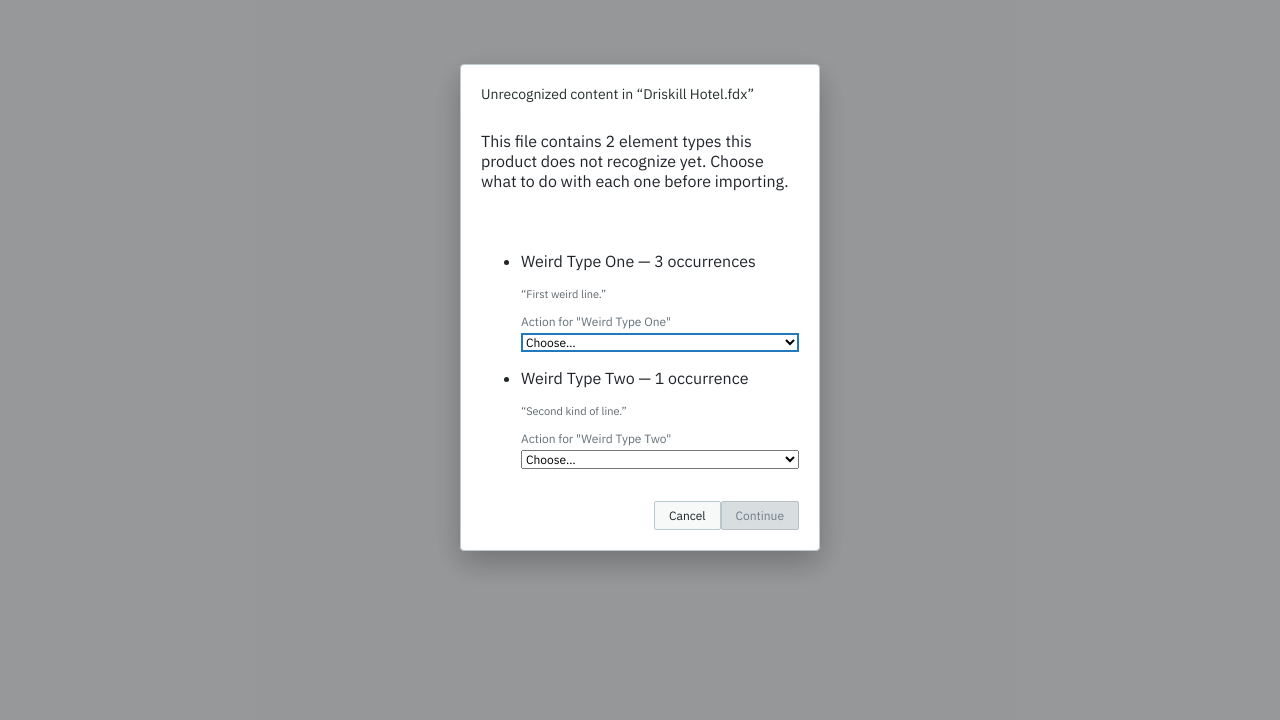
Test: FdxUnknownTypesDialog › reverting a decision back to "Choose…" disables Continue again
Select "Skip (leave out of the import)" in the dropdown labelled "Action for \"Weird Type One\"" at coordinates (660, 342), box [521,333,799,352]
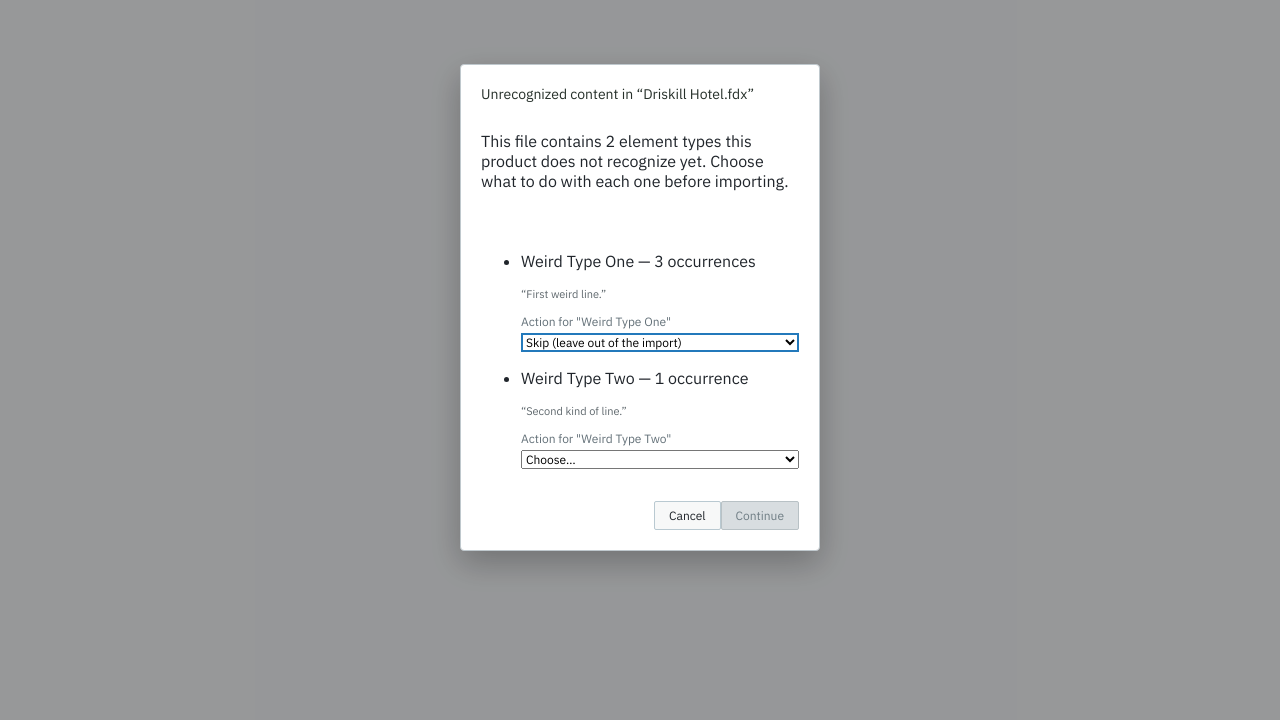
Select "Map to Dialogue" in the dropdown labelled "Action for \"Weird Type Two\"" at coordinates (660, 459), box [521,450,799,469]
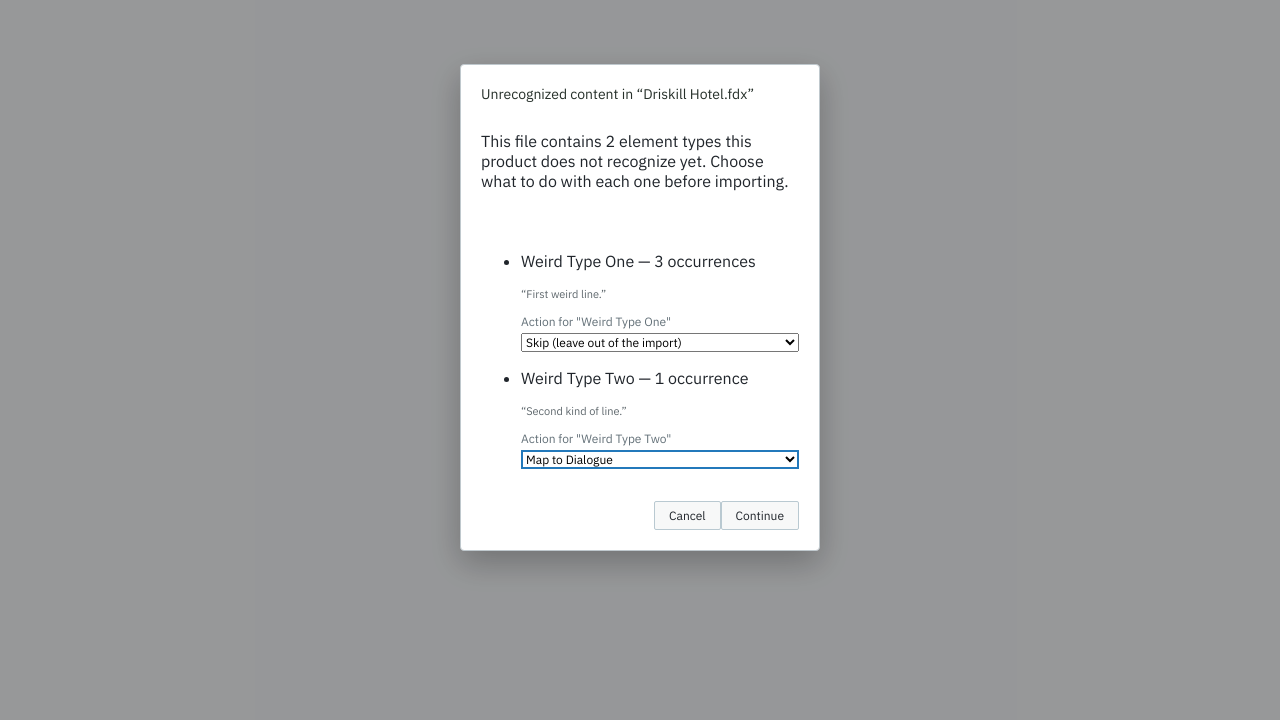
Check: the button "Continue" is enabled, box [721,501,799,530]
Select "Choose…" in the dropdown labelled "Action for \"Weird Type One\"" at coordinates (660, 342), box [521,333,799,352]
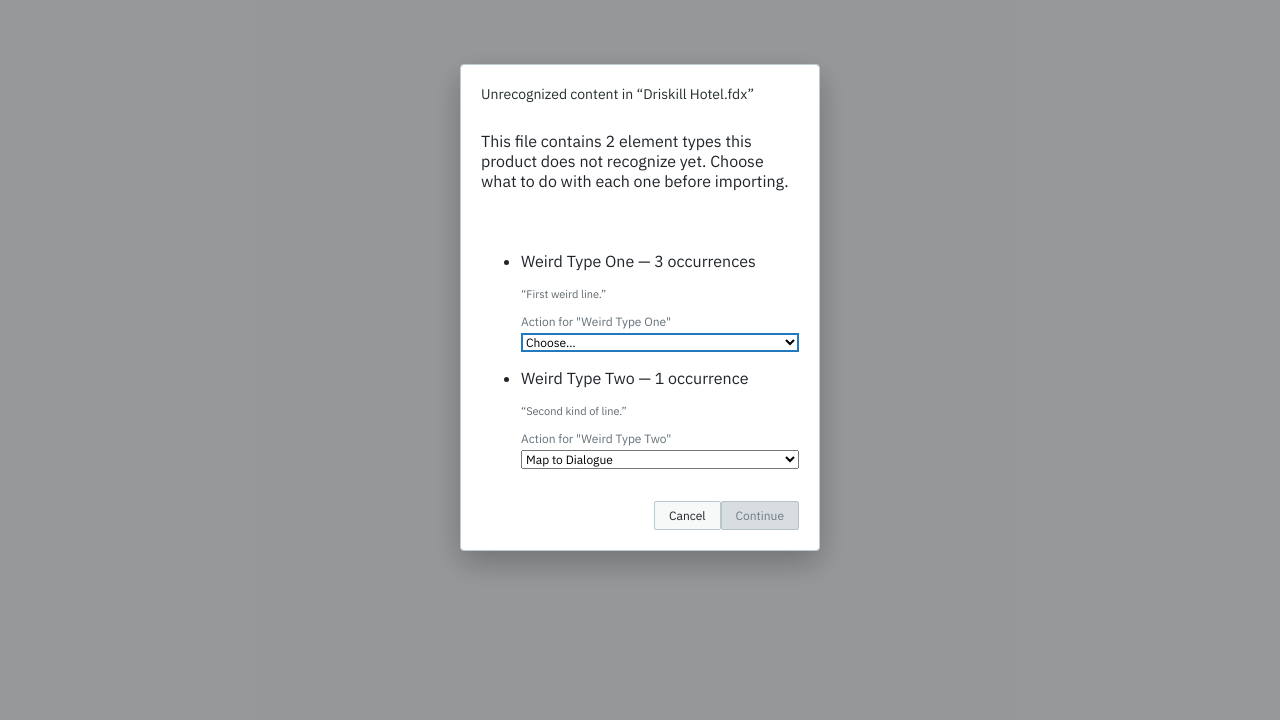
Check: the button "Continue" is disabled, box [721,501,799,530]
